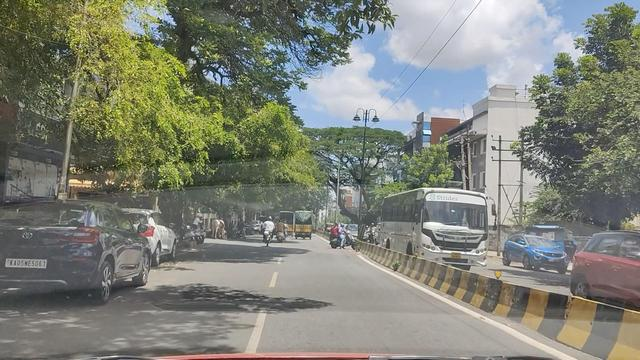LMV: (327, 221, 353, 249), (259, 213, 277, 246)
